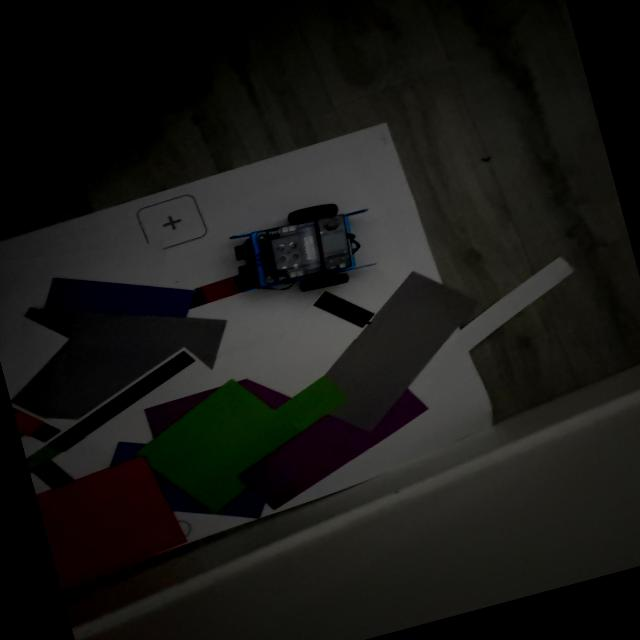mbot-detection: (216, 183, 392, 314)
